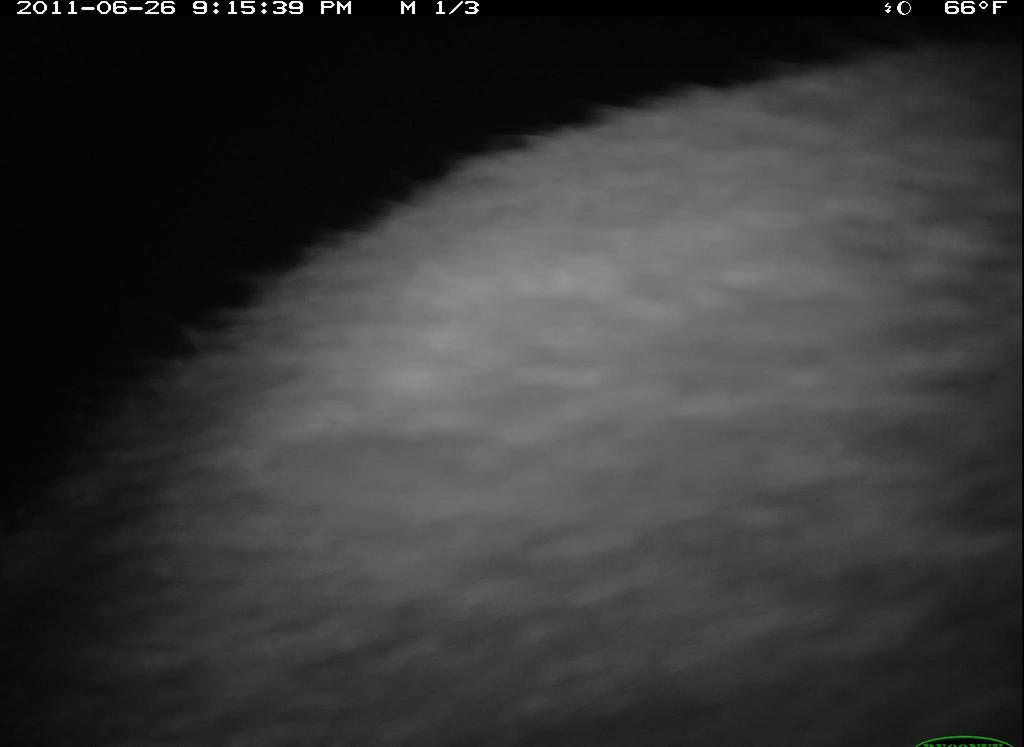raccoon: (4, 36, 1021, 742)
